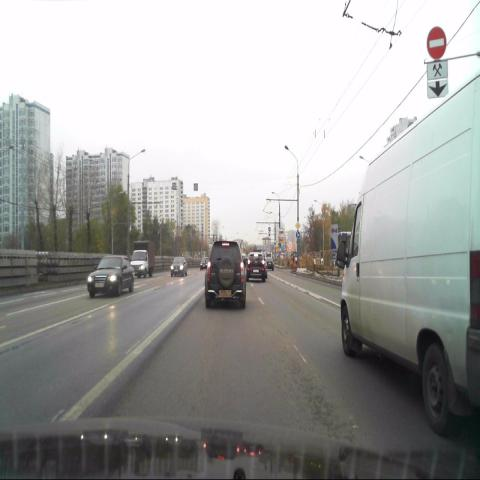3_1: (426, 26, 448, 59)
8_5_2: (428, 64, 448, 79)
